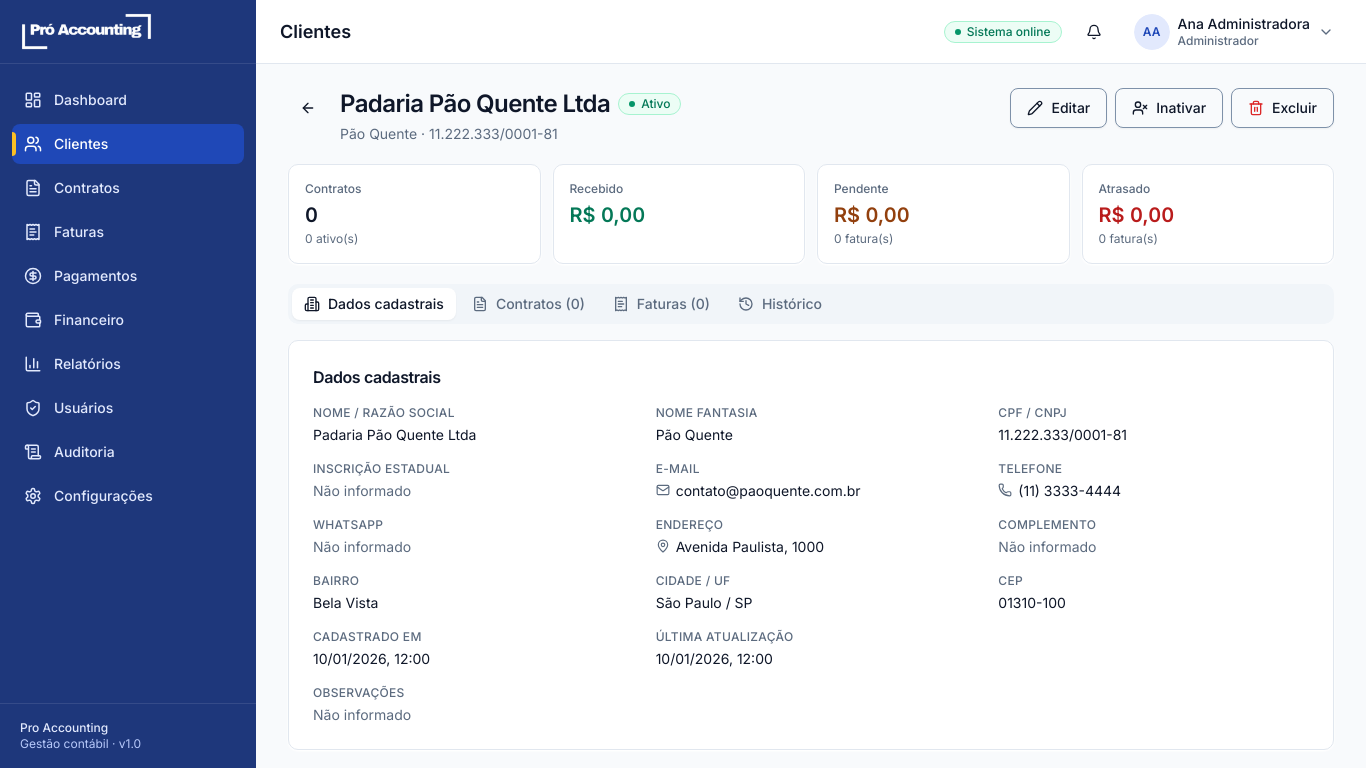
erro x não encontrado nas fichas › falha numa aba não aparece como "nenhum registro"
Click the tab "Faturas (0)": [661, 304] box [601, 288, 722, 320]
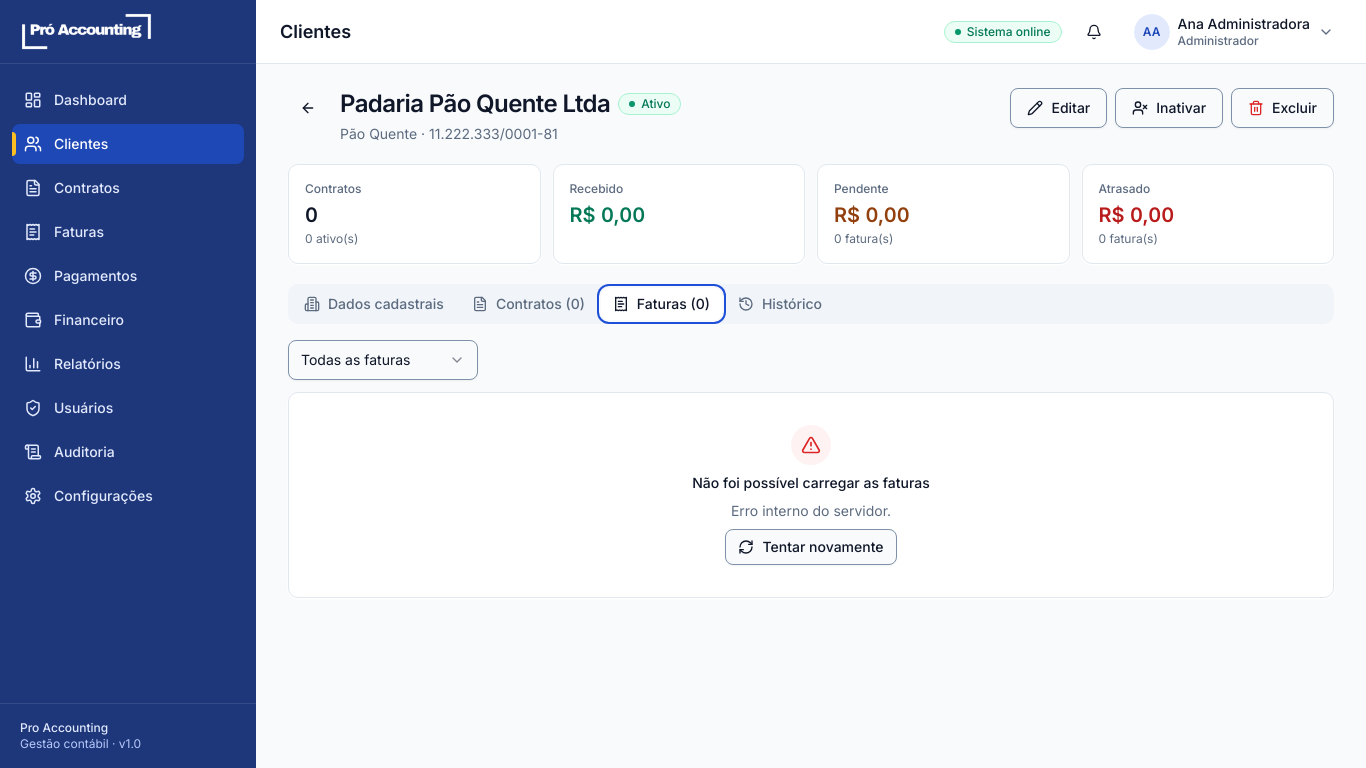
Check: the text "Não foi possível carregar as faturas" is shown, box [692, 473, 930, 493]
